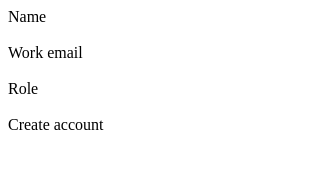
Test case: Form in a browser › lists the error id in the control aria-describedby, and the page has that element
This screenshot has width=320, height=183.
Click the button "Create account": (56, 125) [8,116,104,134]
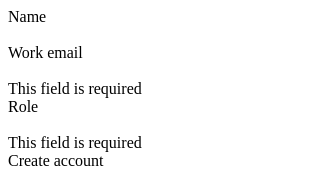
Check: the text "This field is required" below "Work email" is shown, box [8,80,142,97]
